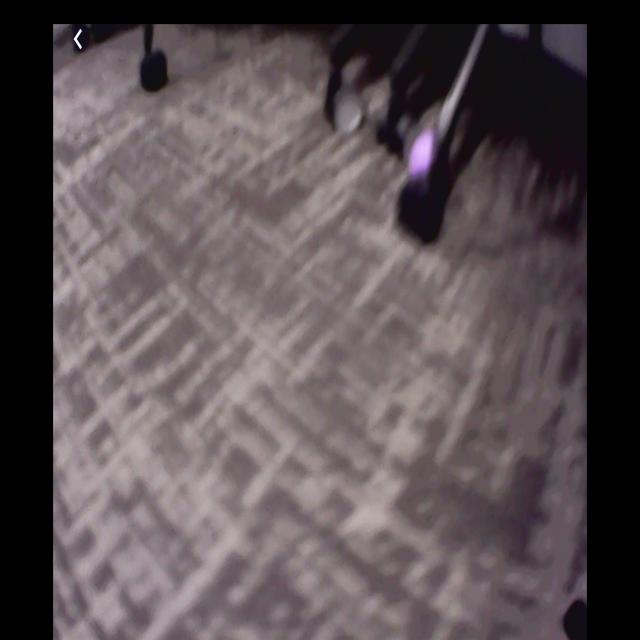ball: (410, 127, 439, 182)
